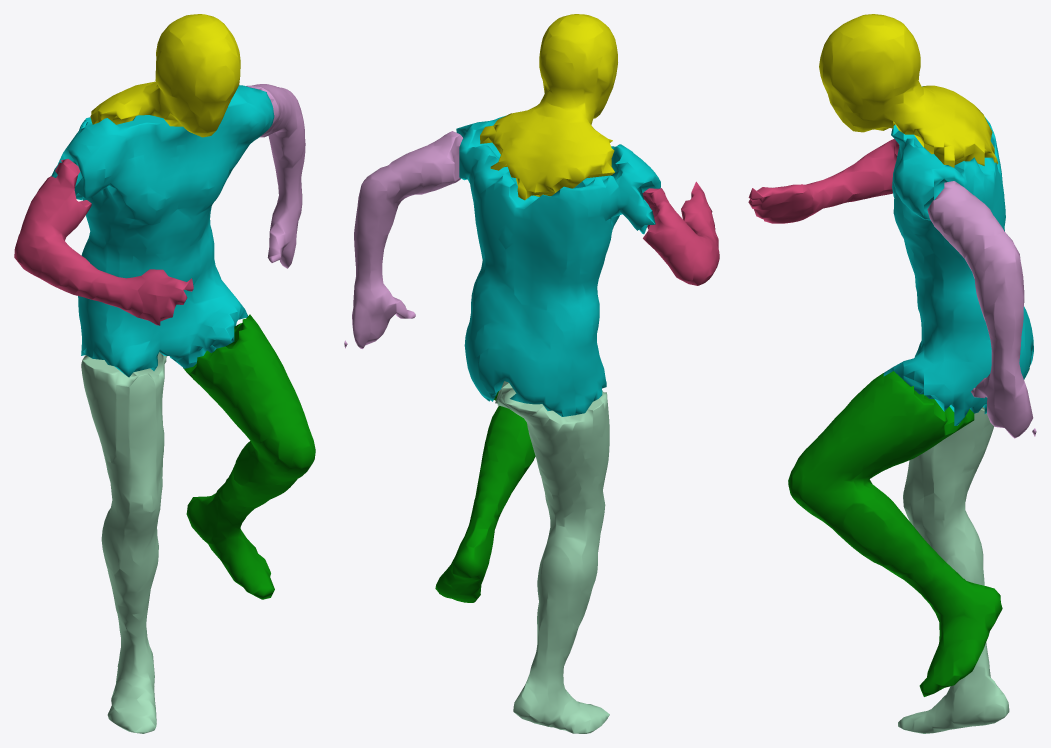
The model's file is 2_local.glb.
3 views of the same model, side by side, from view 1: azimuth 30°, elevation 25°; view 2: azimuth 150°, elevation 25°; view 3: azimuth 270°, elevation 25° (orthographic). The views are drawn at different scales.
Bounding box in the file's own units: 0.332 × 0.6915 × 0.2473.
